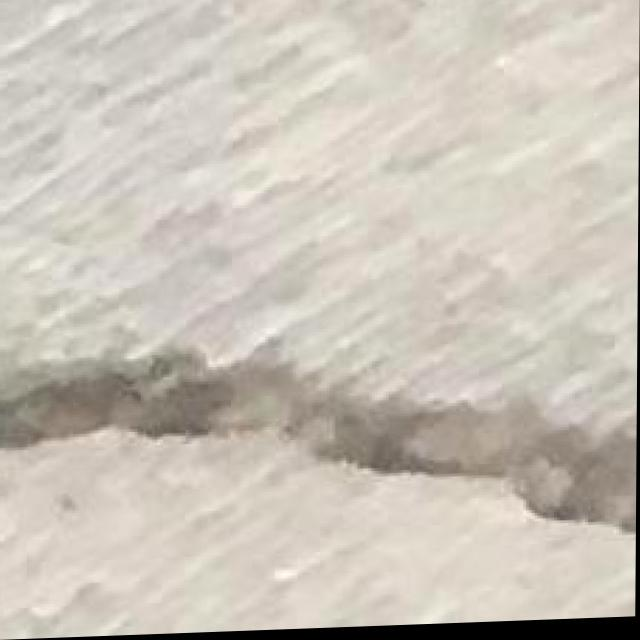Crack: (0, 318, 596, 566)
